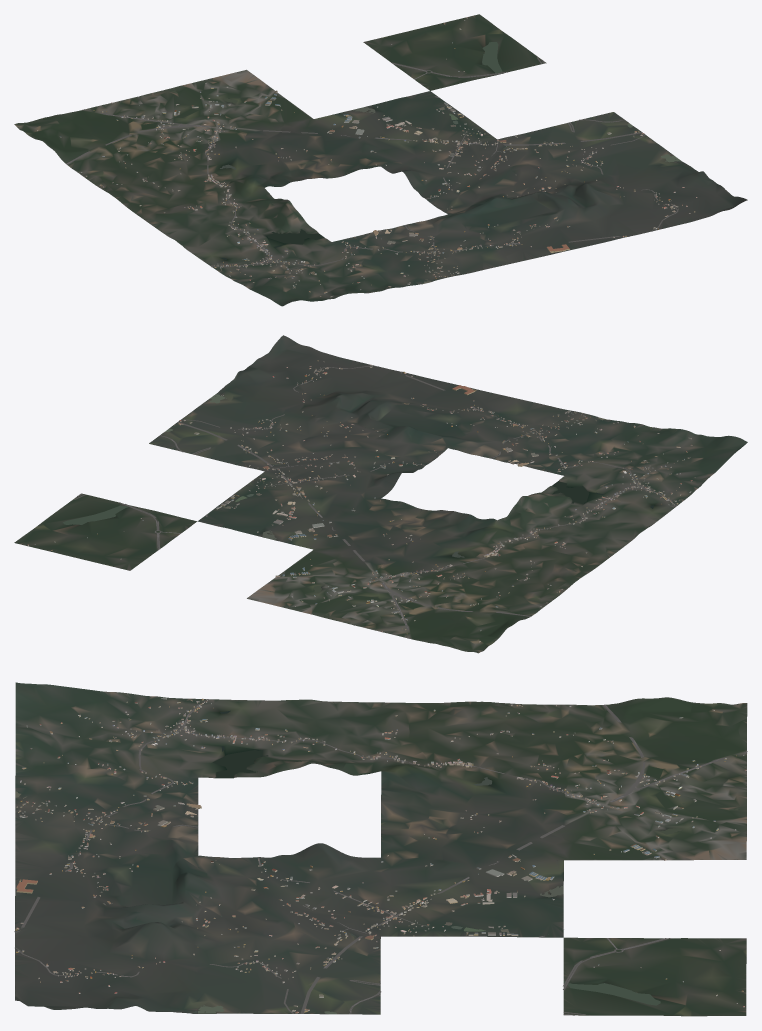
3 views of the same model, one above another, from view 1: azimuth 30°, elevation 25°; view 2: azimuth 150°, elevation 25°; view 3: azimuth 270°, elevation 25° (orthographic). The views are drawn at different scales.
Parts seen in each view (by area): view 1: ground, buildings, roads, water; view 2: ground, buildings, roads, water; view 3: ground, buildings, roads, water.
Boxes of the visible parts, x1=… form: ground: x1=14, y1=14, x2=747, y2=306; buildings: x1=37, y1=17, x2=697, y2=297; roads: x1=66, y1=57, x2=678, y2=267; water: x1=65, y1=42, x2=681, y2=283; ground: x1=14, y1=335, x2=747, y2=653; buildings: x1=27, y1=360, x2=695, y2=642; roads: x1=74, y1=366, x2=677, y2=638; water: x1=63, y1=393, x2=654, y2=622; ground: x1=15, y1=682, x2=747, y2=1016; buildings: x1=15, y1=698, x2=746, y2=1013; roads: x1=14, y1=699, x2=747, y2=1015; water: x1=15, y1=704, x2=739, y2=1014.
Size of the model in its own units: 5616 by 238 by 5627.
